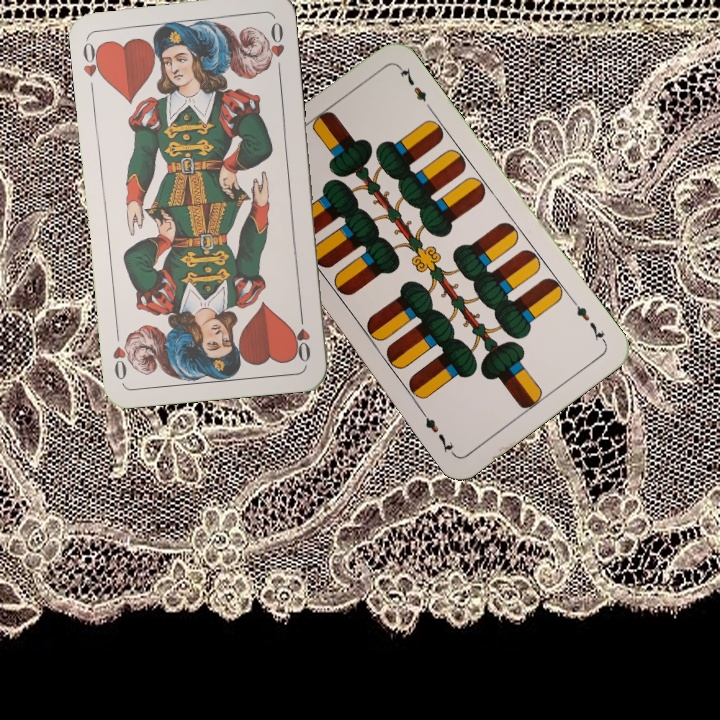E7: (567, 296, 609, 346)
HO: (290, 306, 313, 365), (79, 35, 107, 82)
